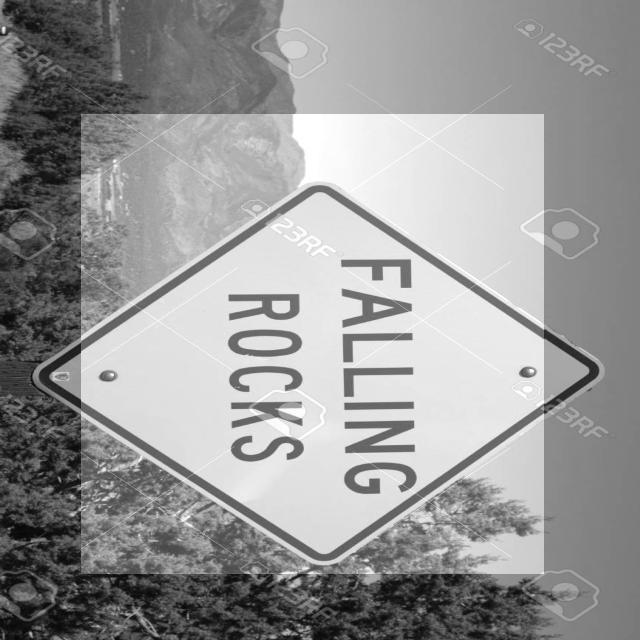falling rocks: (78, 117, 542, 585)
